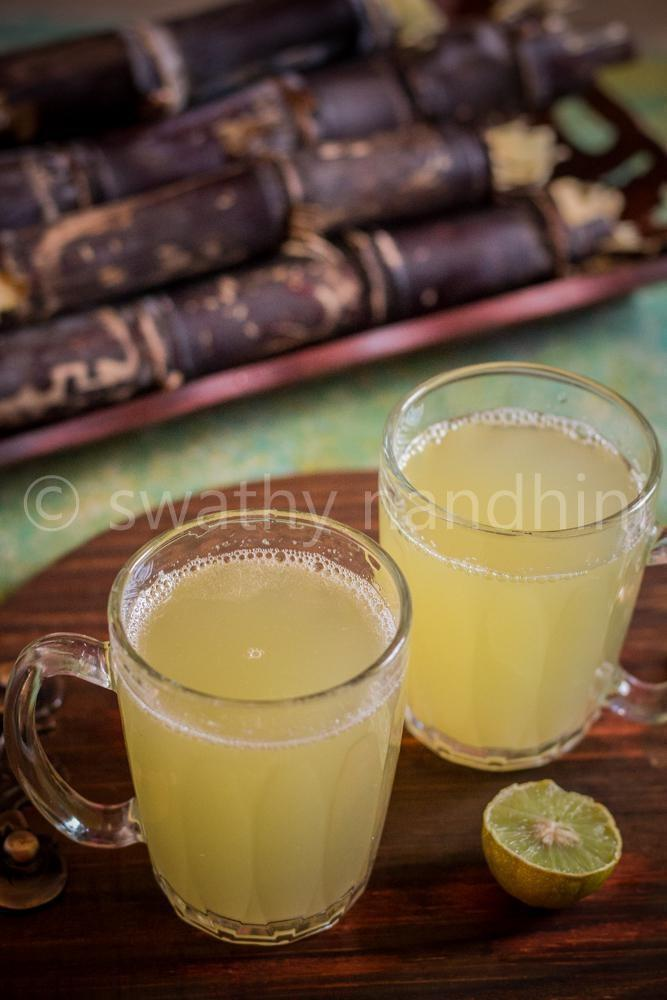glass-mug: (7, 506, 417, 949), (375, 360, 664, 769)
